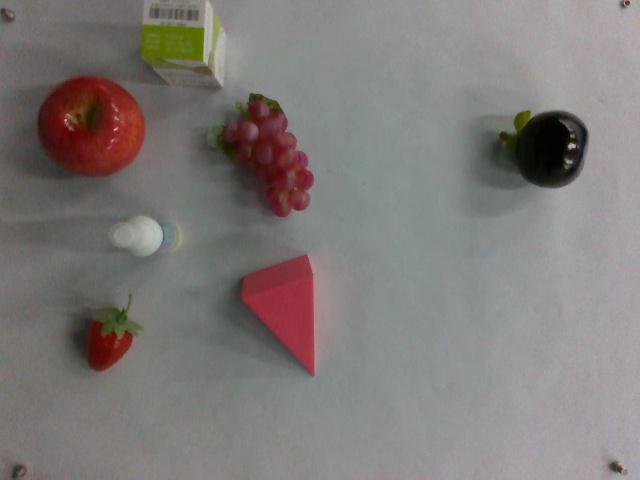apple: (35, 72, 147, 179)
carton: (138, 1, 235, 94)
detergent: (106, 211, 184, 257)
grape: (216, 91, 319, 218)
mangosteen: (491, 105, 589, 189)
pyramid: (232, 253, 323, 381)
strawberry: (81, 292, 146, 372)
